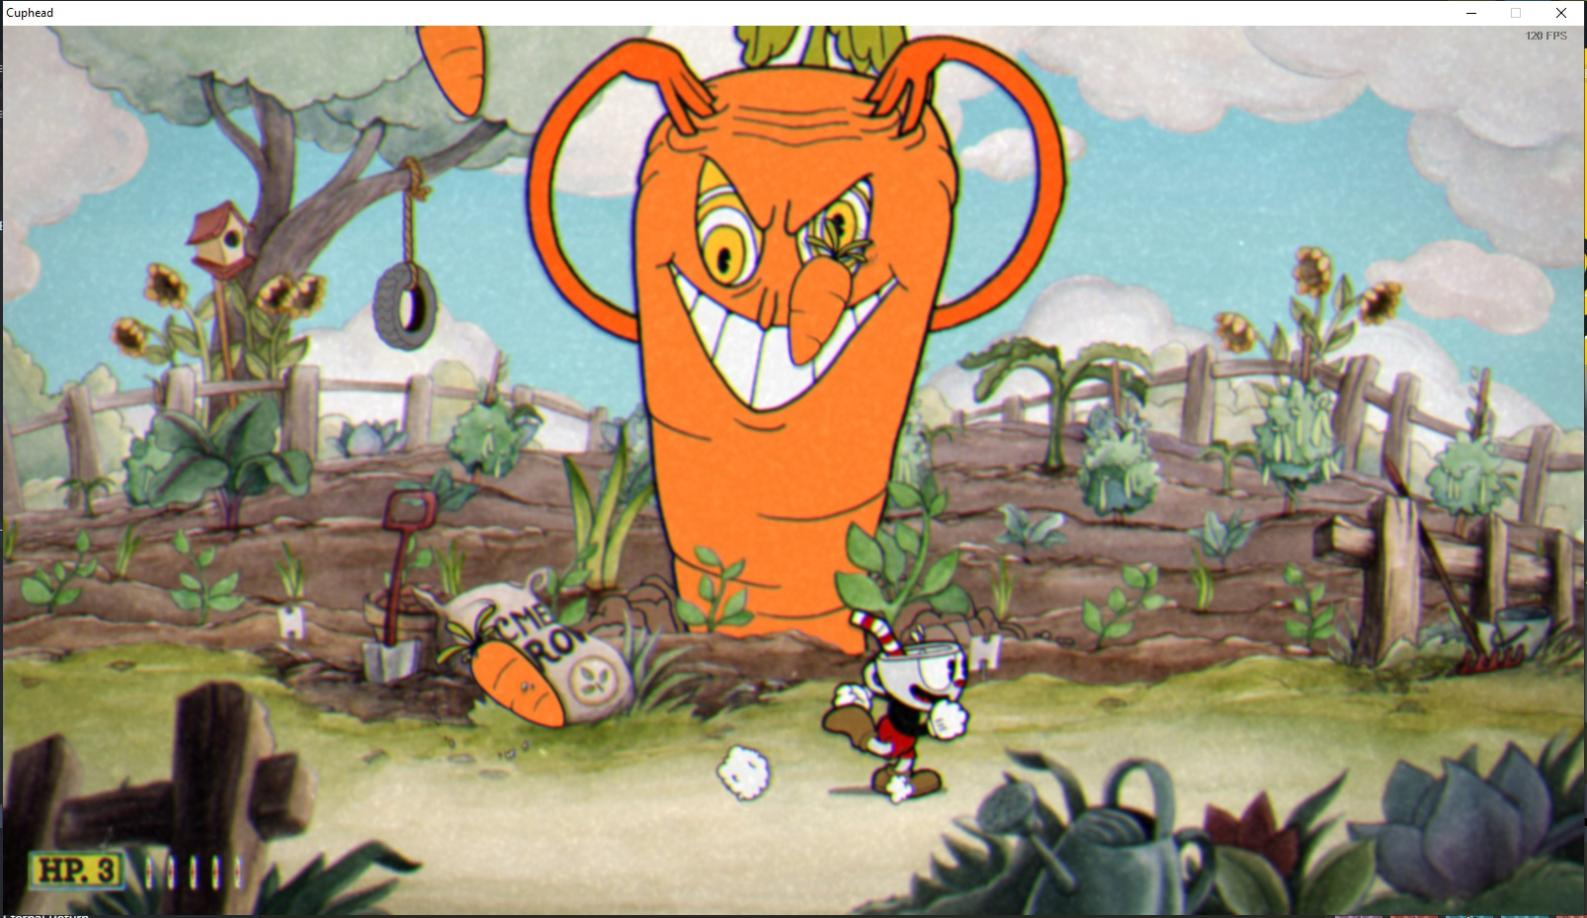carrot: (435, 603, 584, 737), (770, 215, 876, 371), (415, 24, 501, 123)
carrot_boss: (626, 37, 949, 650)
hp3: (89, 853, 123, 889)
player: (806, 592, 983, 806)
